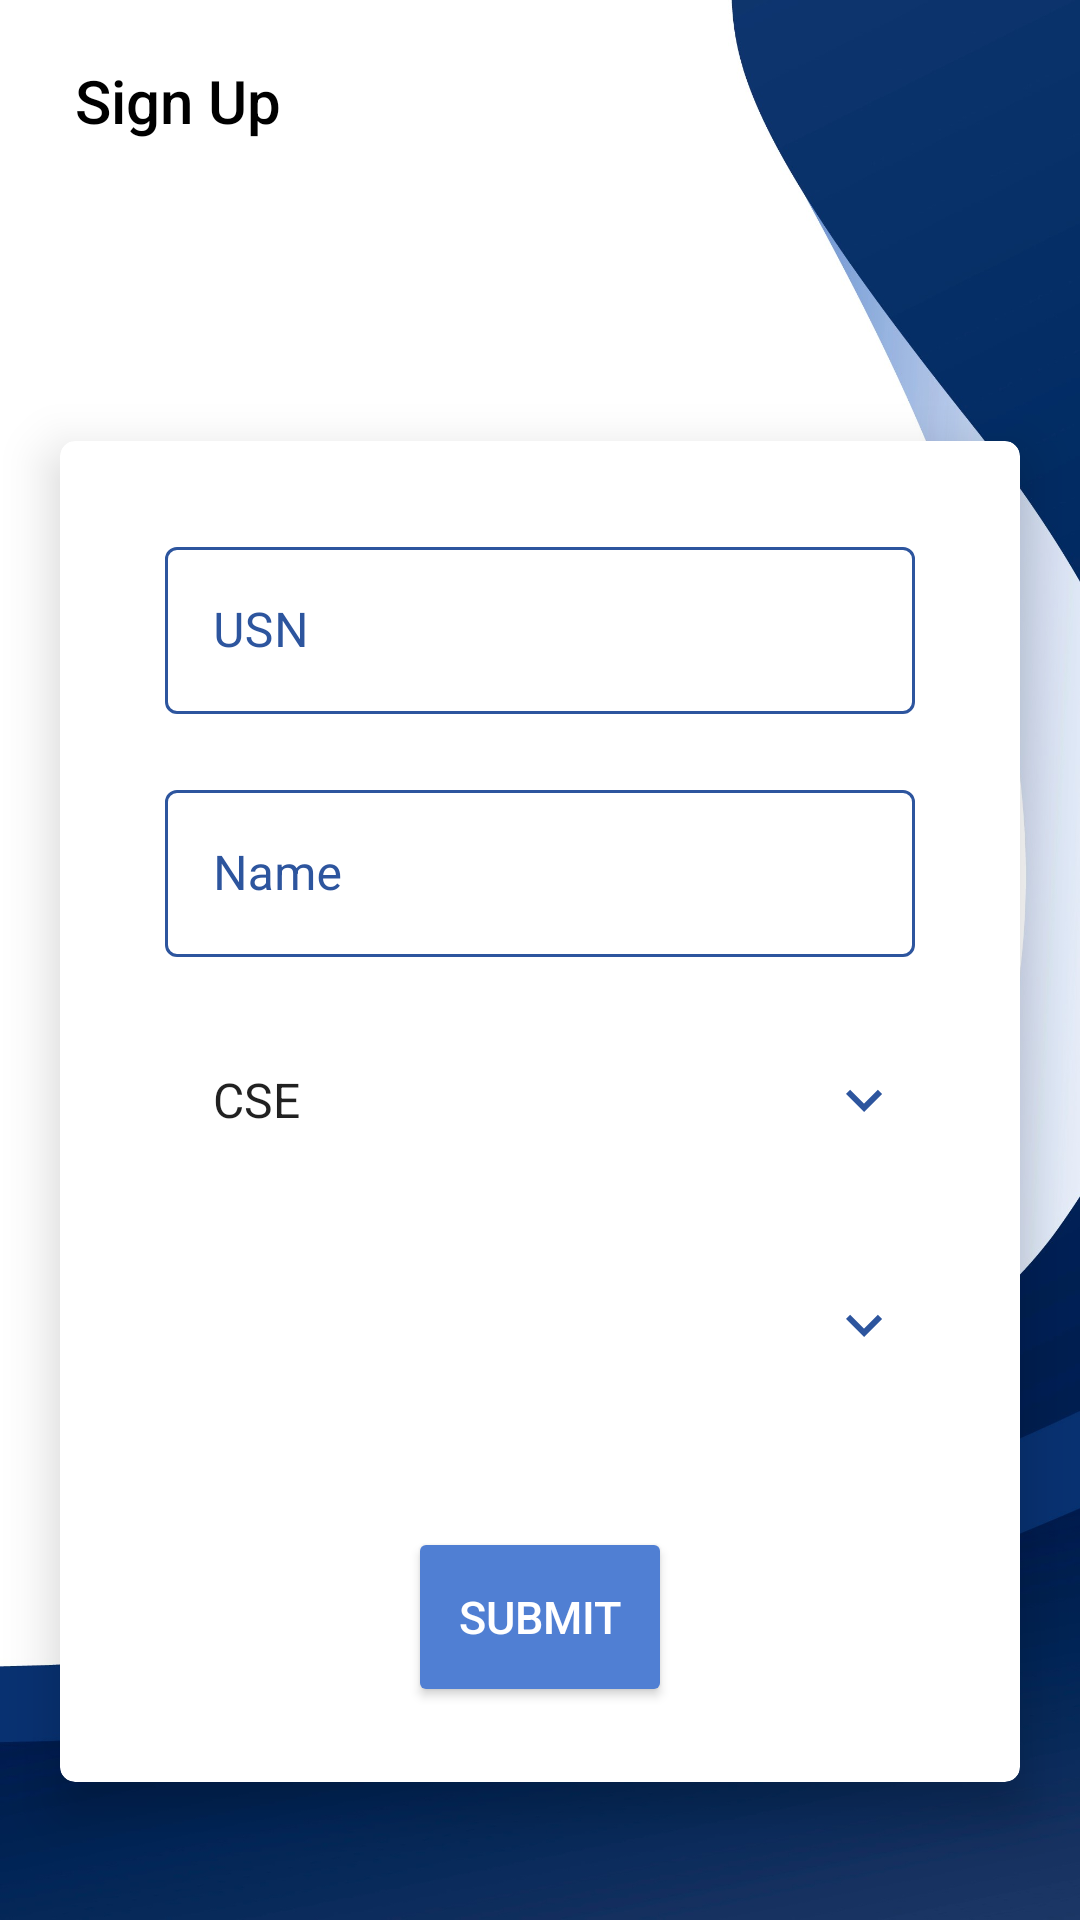

Where icons sit on this 1080px×1920px app screen, as (x1,y1,x2,y2):
keyboard arrow down: (846,1090,882,1112), (846,1315,882,1337)
